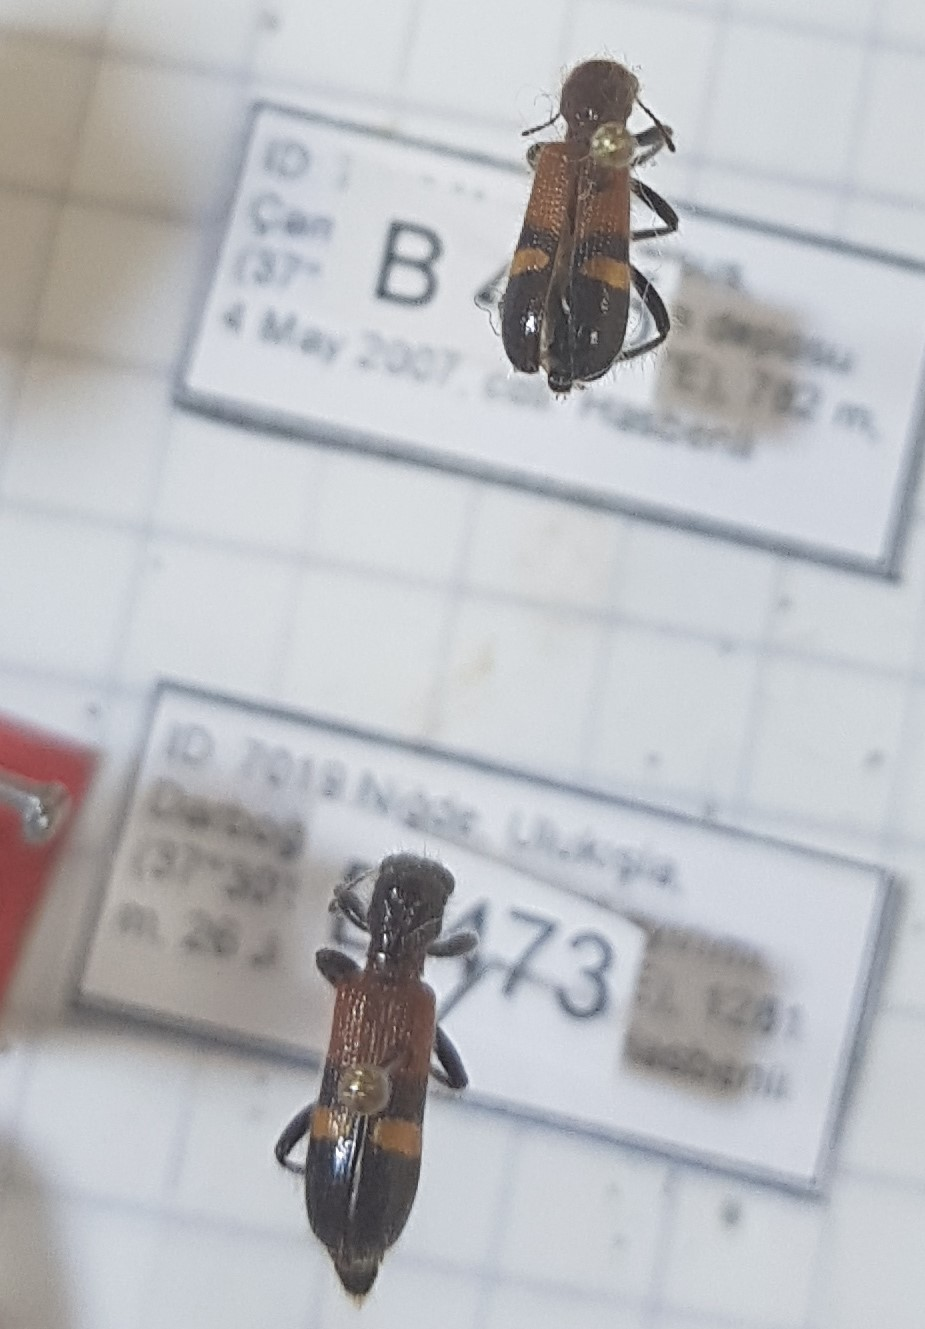opilo_taeniatus: (271, 839, 471, 1313), (483, 45, 692, 398)
